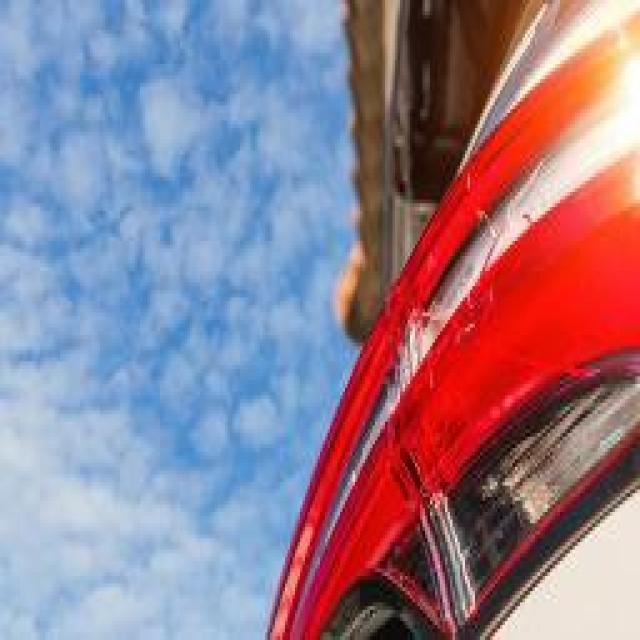Light: (370, 169, 592, 520)
